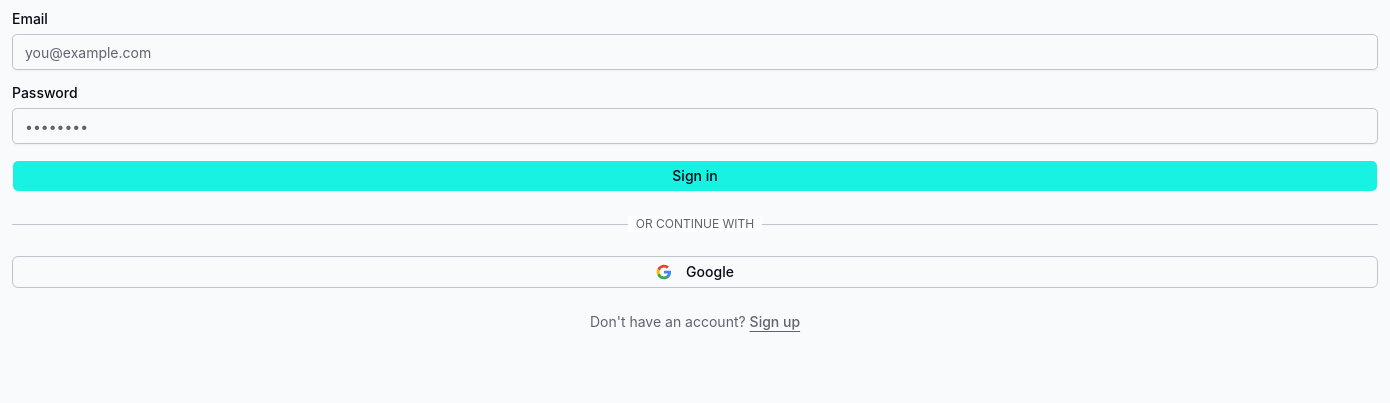
Test: LoginForm › blocks invalid submissions with client-side validation
Click the button "Sign in": [695, 176] box [12, 160, 1378, 192]
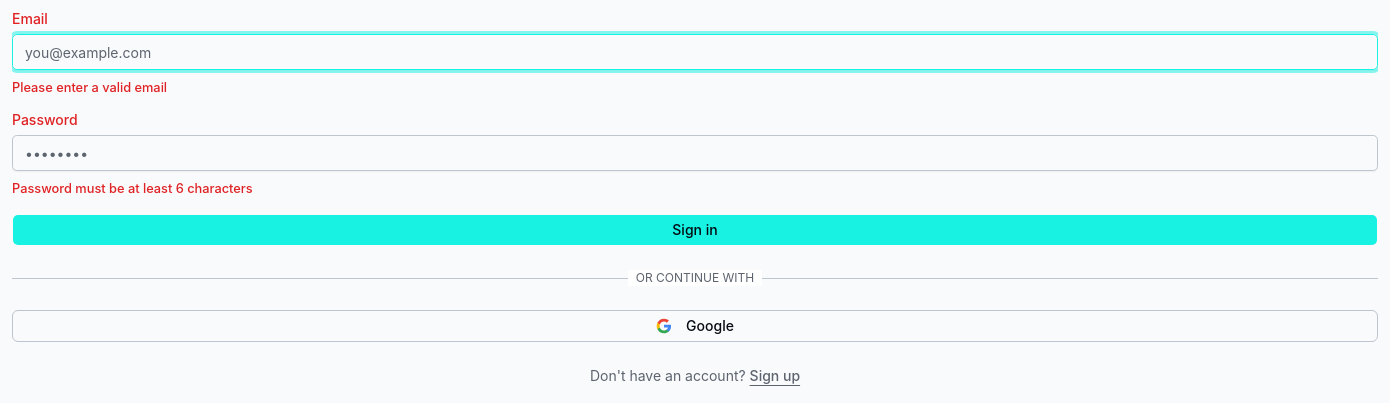
Check: the text "Please enter a valid email" is shown, box [12, 80, 167, 95]
Check: the text "Password must be at least 6 characters" is shown, box [12, 181, 253, 196]
